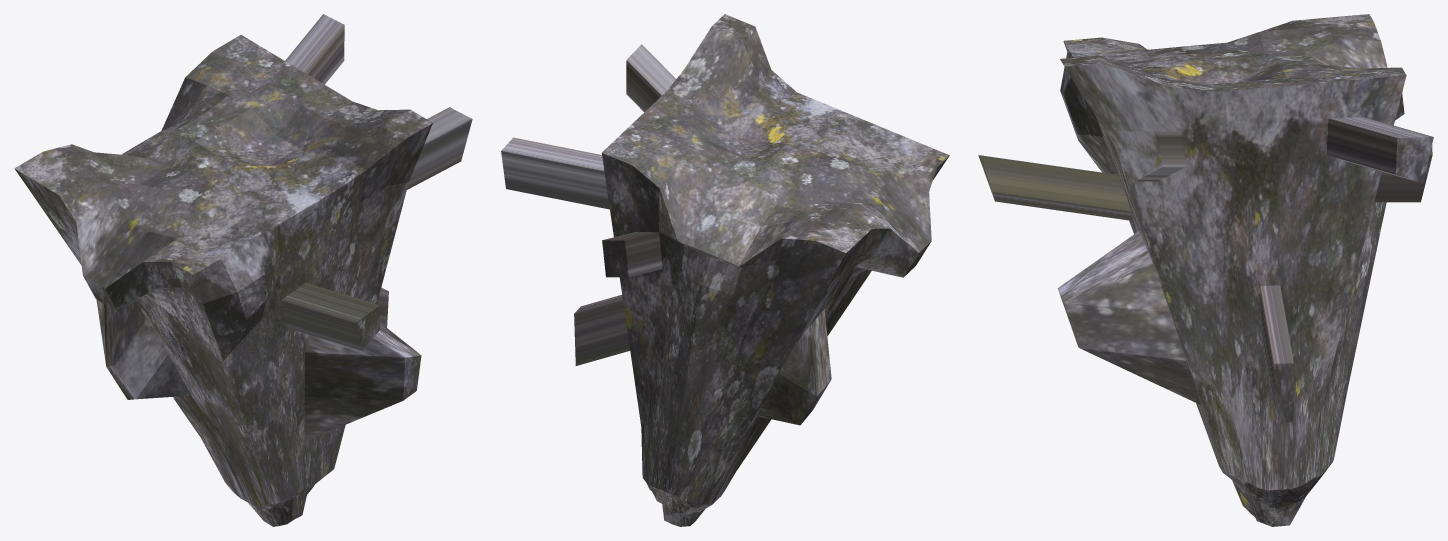
File: mountain.fbx
3 views of the same model, side by side, from view 1: azimuth 30°, elevation 25°; view 2: azimuth 150°, elevation 25°; view 3: azimuth 270°, elevation 25° (orthographic). The views are drawn at different scales.
Parts seen in each view (by area): view 1: flying_island; view 2: flying_island; view 3: flying_island.
Boxes of the visible parts, left/top/right/bottom form: flying_island: left=14, top=14, right=472, bottom=526; flying_island: left=501, top=14, right=949, bottom=526; flying_island: left=978, top=14, right=1433, bottom=526.
Size of the model in its own units: 21.11 by 26.66 by 22.64.
1 material, 1 textured.
